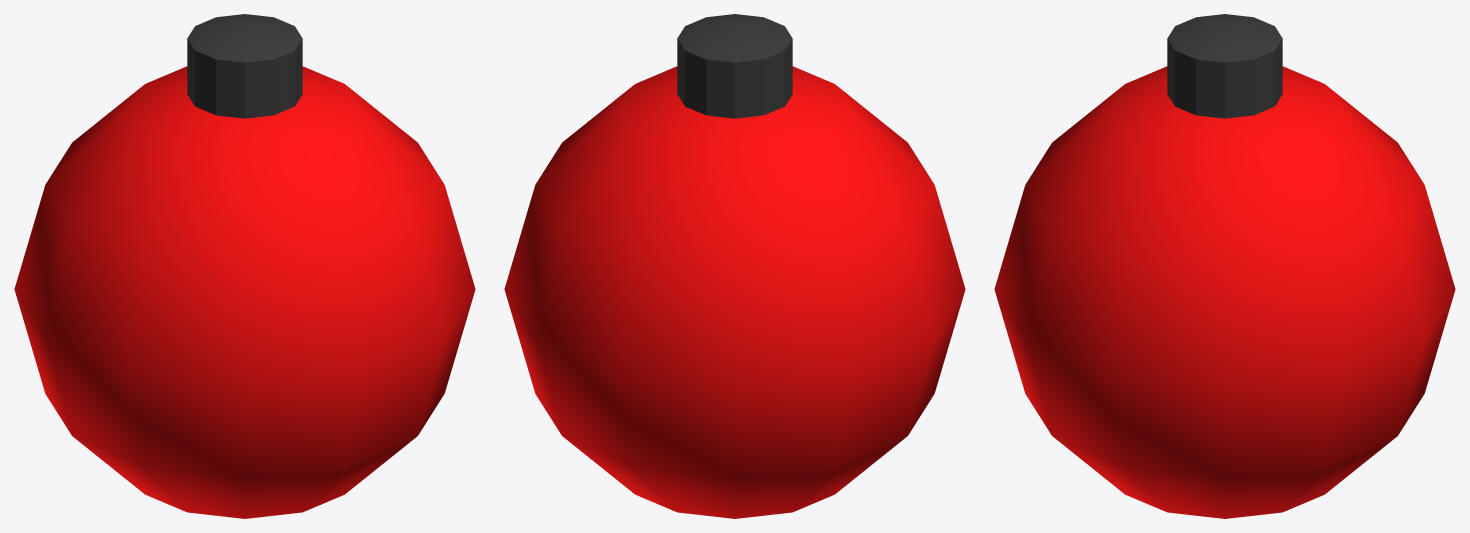
File: Christmas_ball.FBX
3 renders of one model, left to right at view 1: azimuth 30°, elevation 25°; view 2: azimuth 150°, elevation 25°; view 3: azimuth 270°, elevation 25°, orthographic.
Parts seen in each view (by area): view 1: Sphere010; view 2: Sphere010; view 3: Sphere010.
Boxes of the visible parts, x1,y1,x2,y2 form: Sphere010: [14, 14, 475, 518]; Sphere010: [504, 14, 965, 518]; Sphere010: [994, 14, 1455, 518].
Size of the model in its own units: 74.65 by 84.65 by 74.65.
